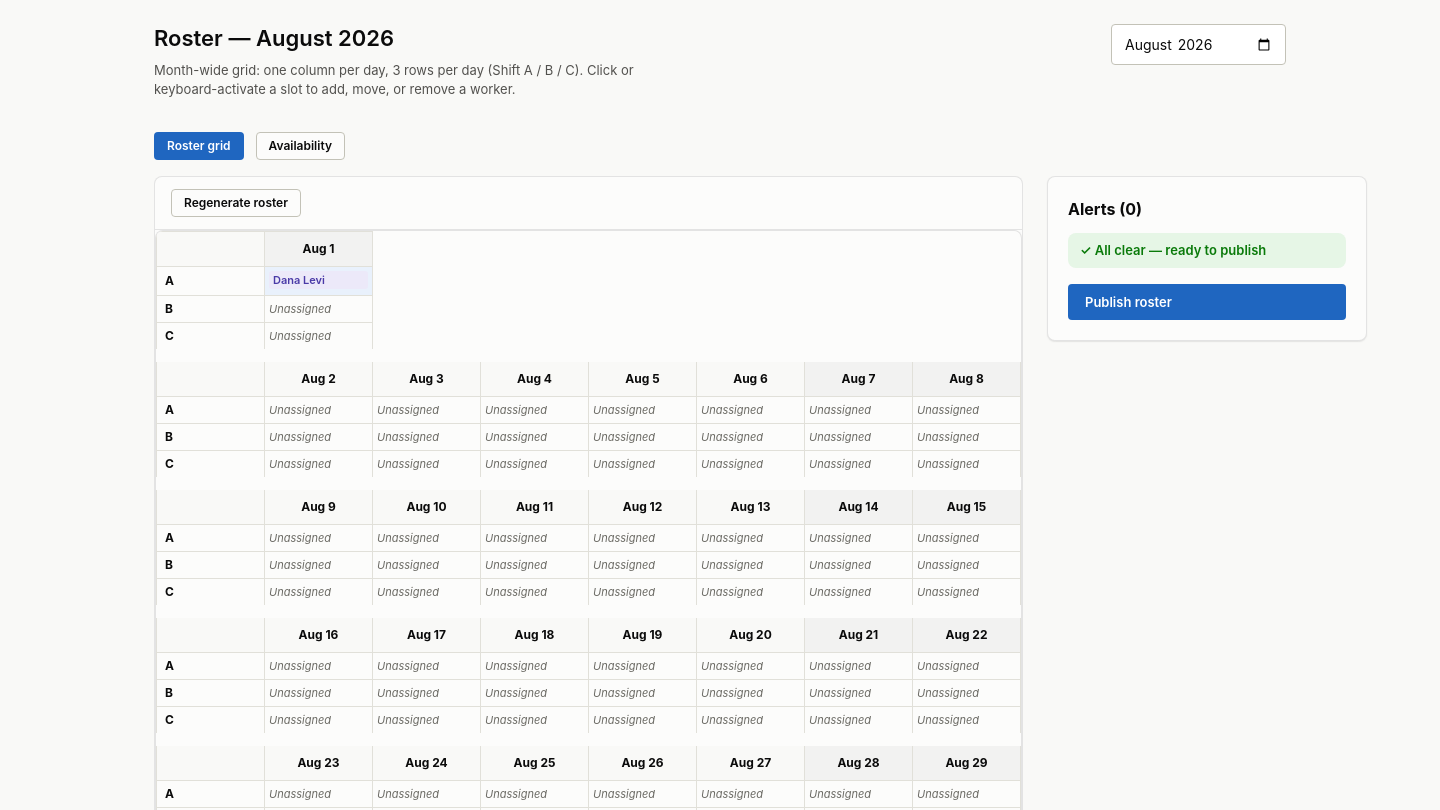
Test: RosterPage › groups the slot dialog by role with an "assigned X of Y required" count per role, and each role's picker only lists workers of that role
The image size is (1440, 810).
Click the cell with test id "cal-cell-2026-08-01-A". click: (318, 281)
box: [264,266,372,296]
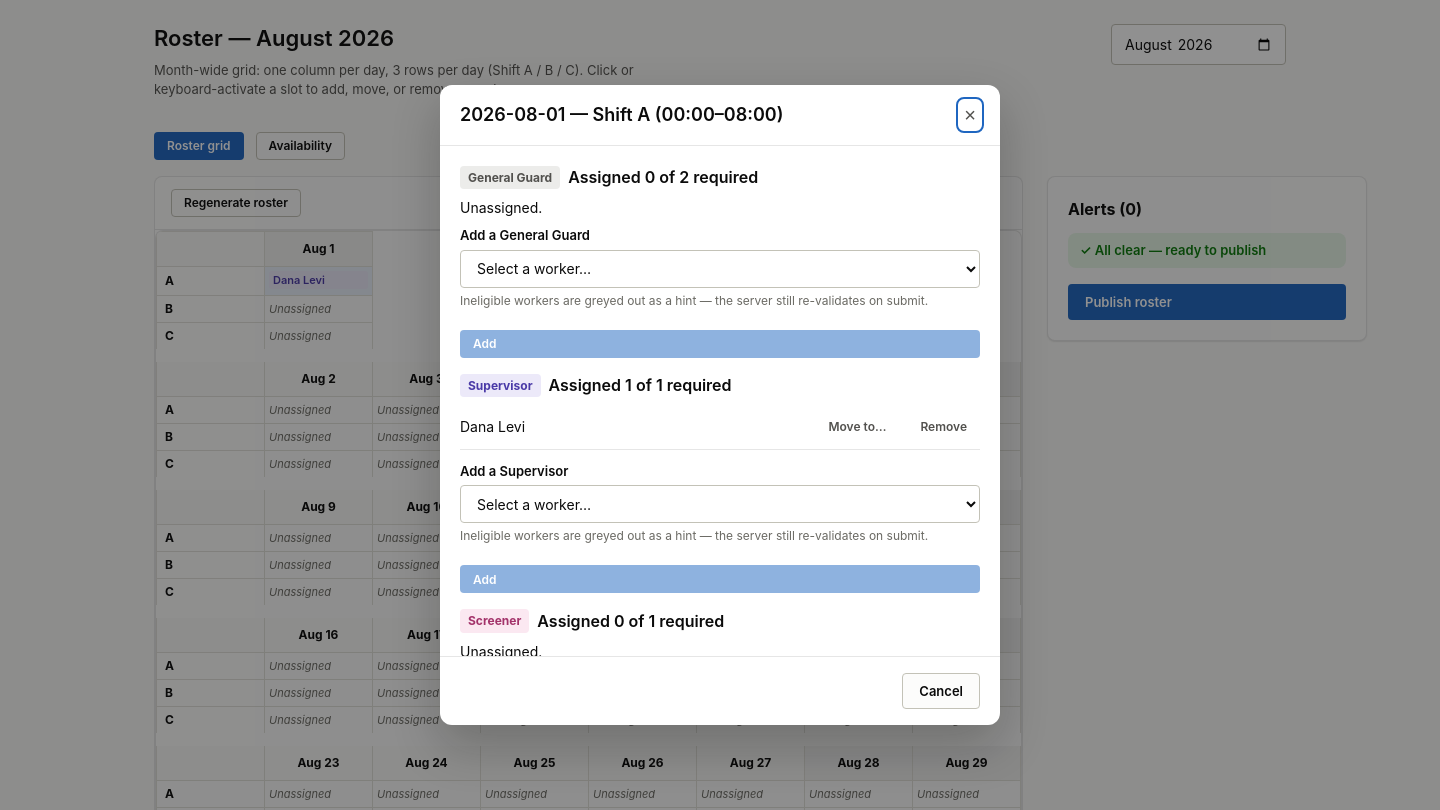
Expected: the text "Dana Levi" is shown, [460,416,525,437]
